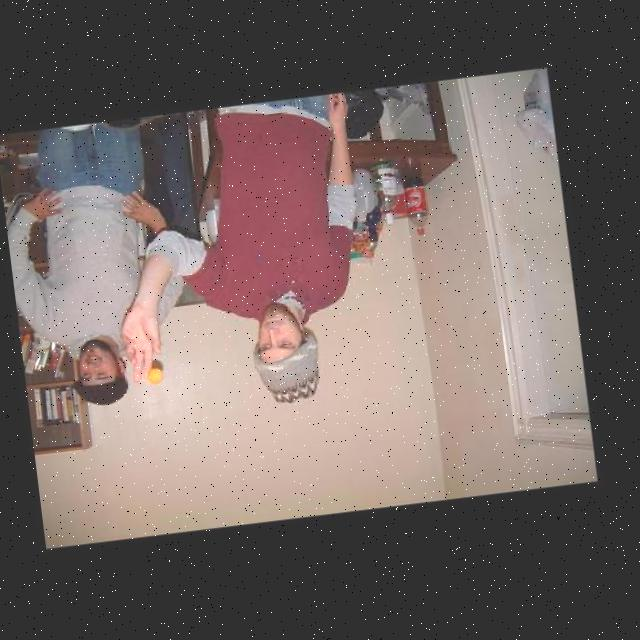ping-pong-ball: (146, 365, 164, 385)
